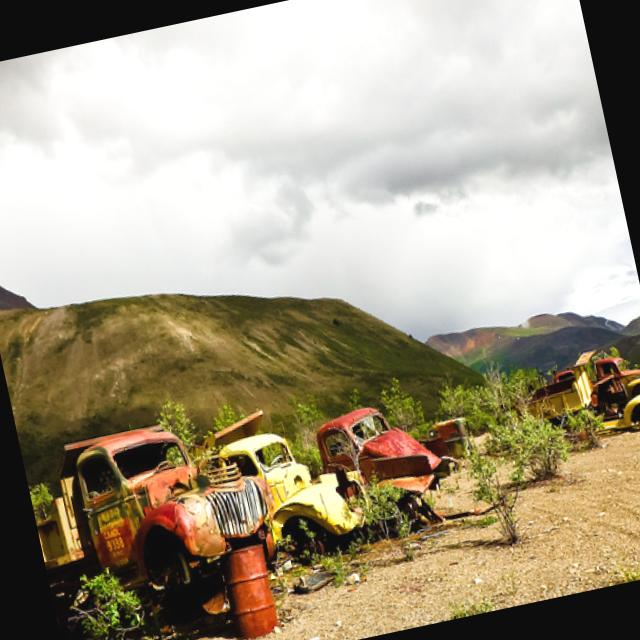Vehicle: (21, 406, 296, 640), (217, 412, 375, 554), (312, 392, 450, 514), (517, 335, 640, 447), (312, 394, 442, 494), (216, 424, 317, 521), (585, 346, 640, 427)
